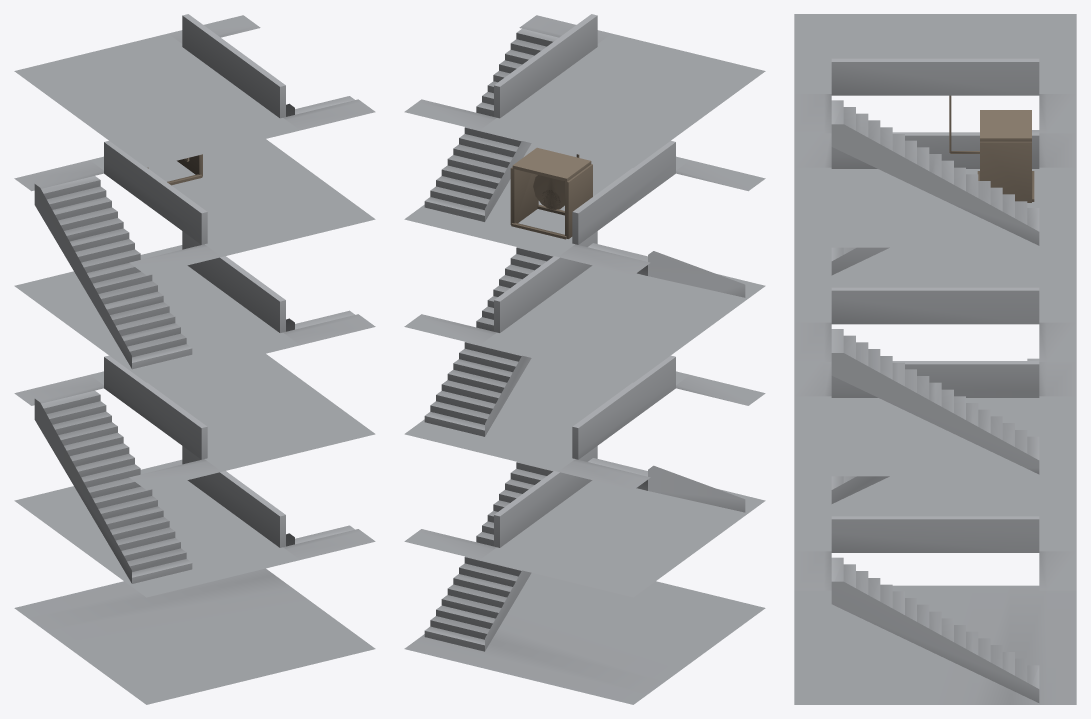
The model's file is sg_clock_tower_in.glb.
3 views of the same model, side by side, from view 1: azimuth 30°, elevation 25°; view 2: azimuth 150°, elevation 25°; view 3: azimuth 270°, elevation 25° (orthographic). The views are drawn at different scales.
Visible parts, largest first — view 1: sg_clock_tower_in_SG_Stone; view 2: sg_clock_tower_in_SG_Stone, sg_clock_tower_in_SG_Joinery; view 3: sg_clock_tower_in_SG_Stone, sg_clock_tower_in_SG_Joinery.
Boxes of the visible parts, bbox=[...] form: sg_clock_tower_in_SG_Stone: bbox=[14, 14, 375, 704]; sg_clock_tower_in_SG_Stone: bbox=[404, 14, 765, 704]; sg_clock_tower_in_SG_Joinery: bbox=[510, 147, 592, 239]; sg_clock_tower_in_SG_Stone: bbox=[794, 14, 1076, 704]; sg_clock_tower_in_SG_Joinery: bbox=[949, 95, 1034, 202].
Bounding box in the file's own units: 7.6 × 18 × 7.6.
